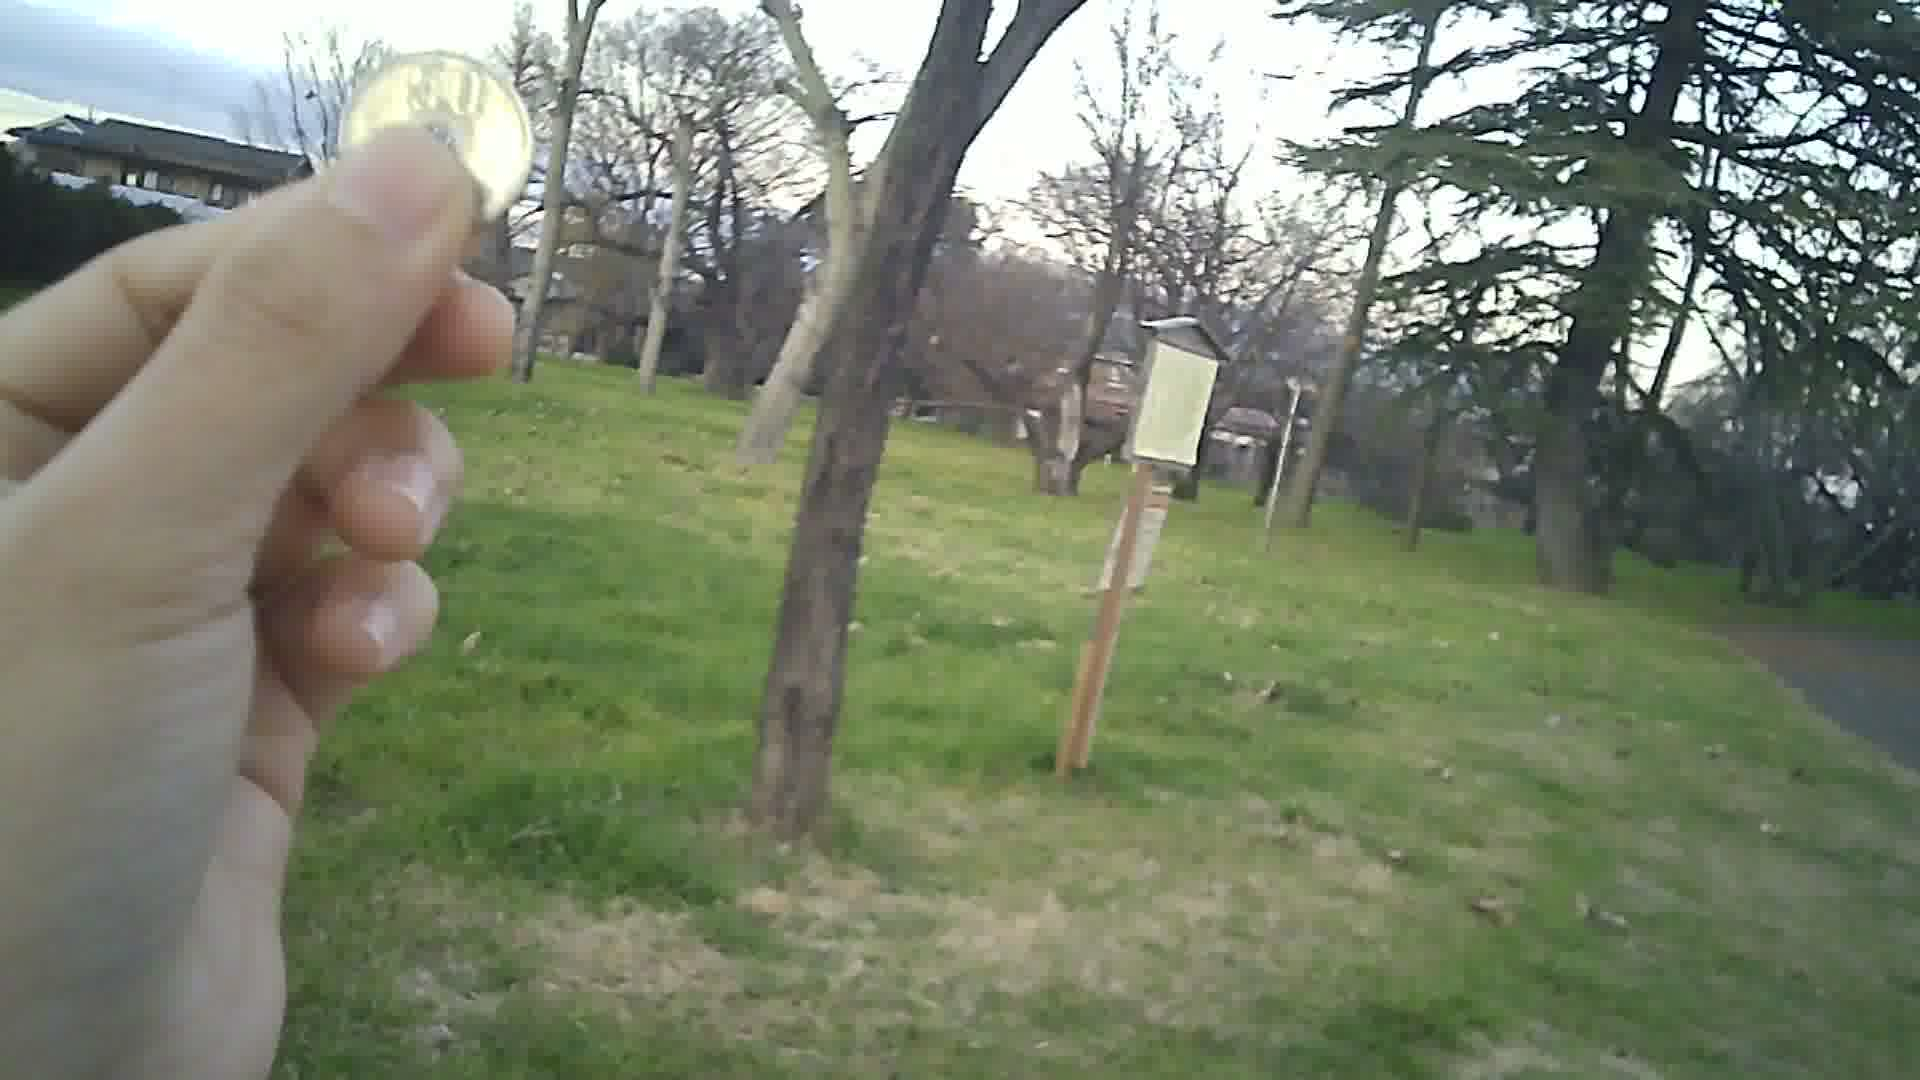50 Yen: (327, 44, 537, 247)
